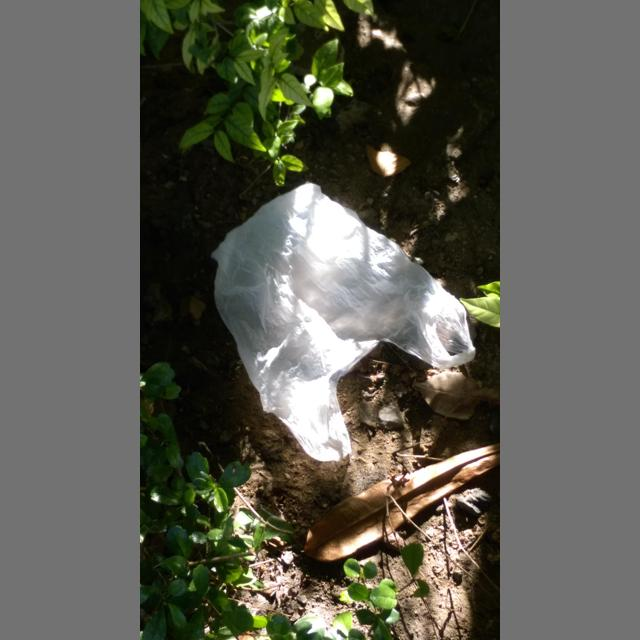litter: (211, 181, 476, 462)
